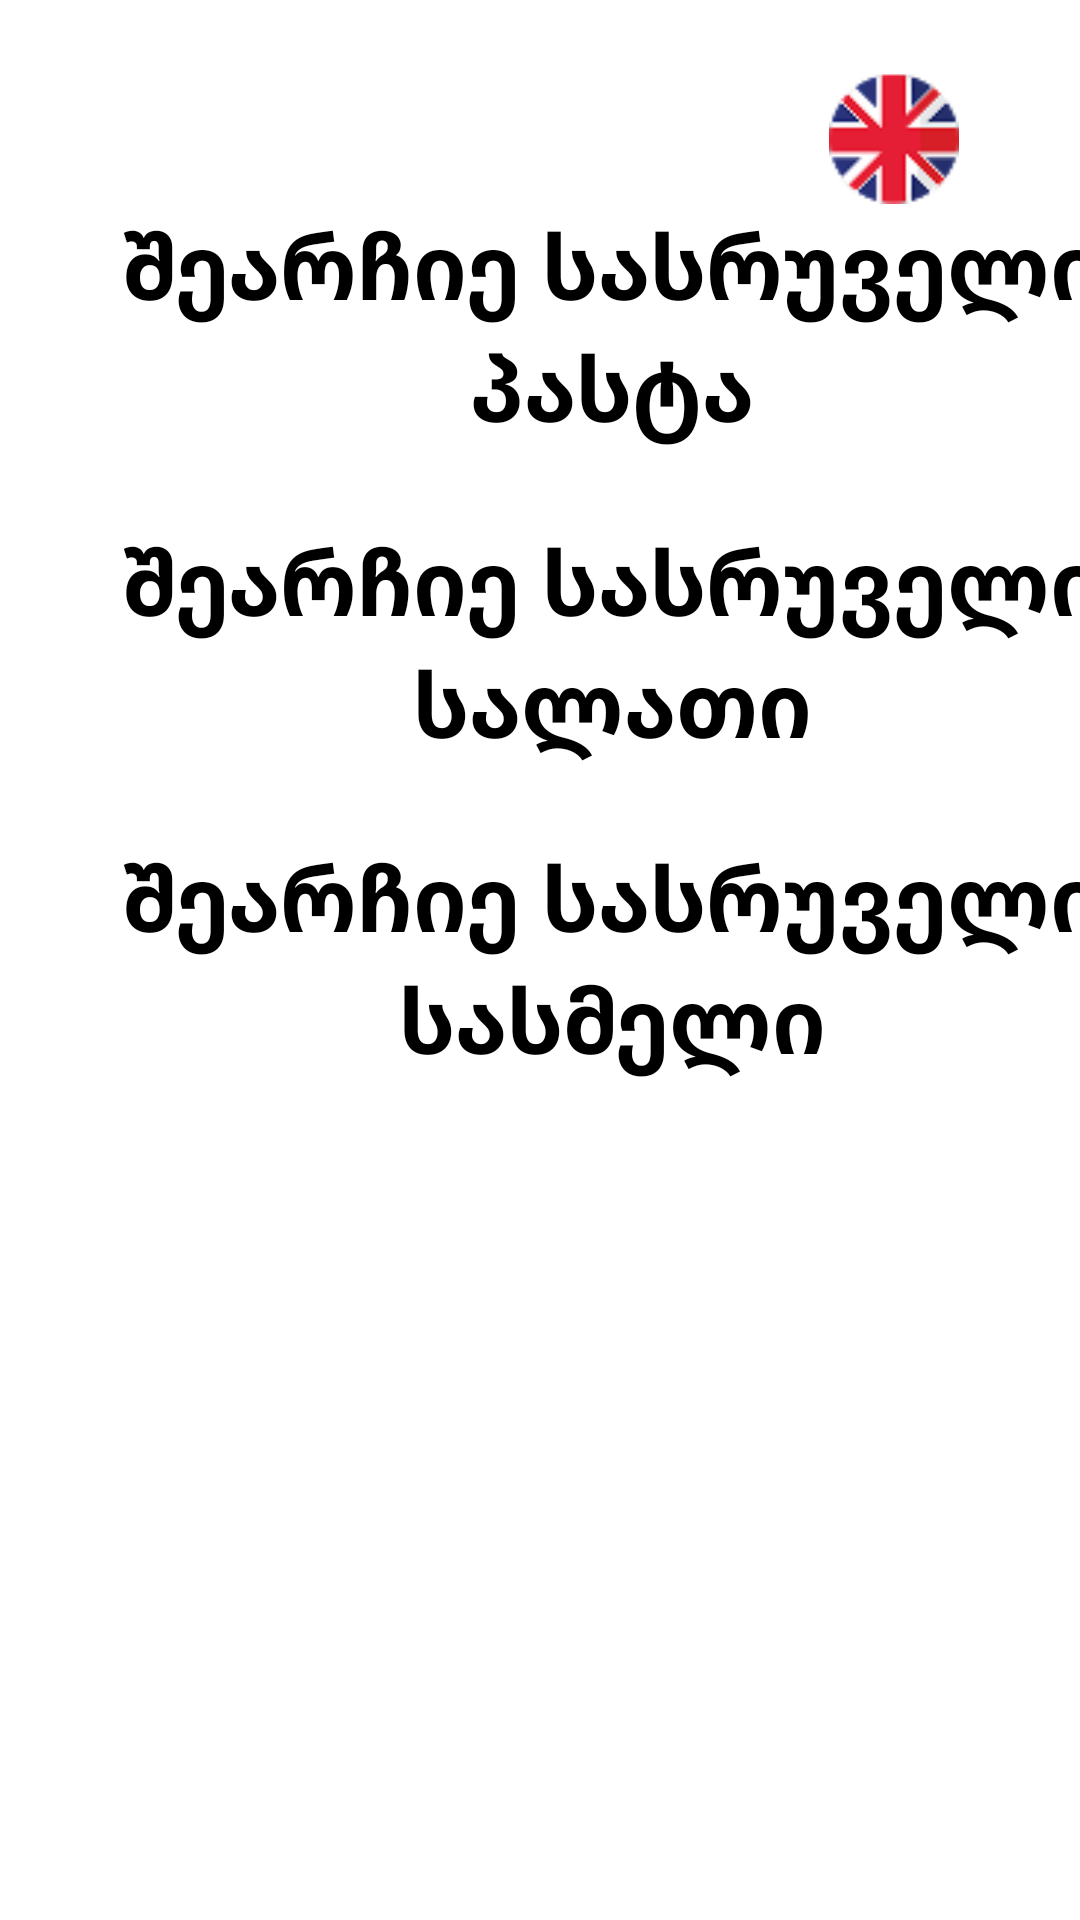

Where icons sit on this 1080x1920 app screen, as (x1, y1, x2, y2):
eng lang: (829, 74, 959, 204)
